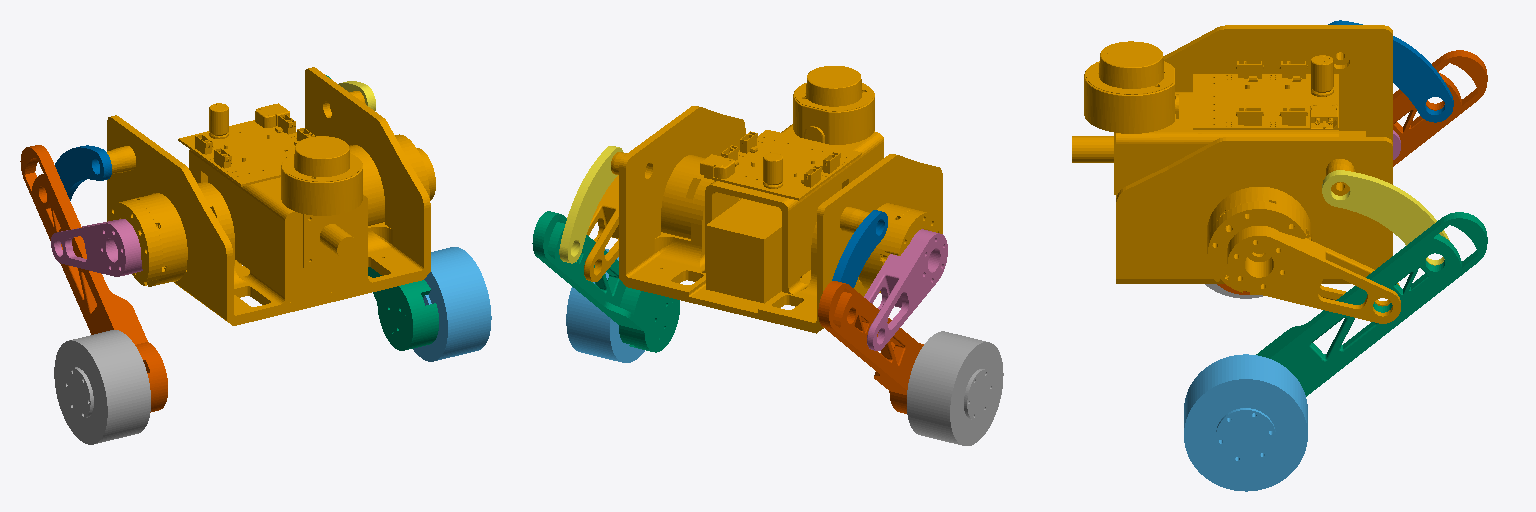
URDF robot description (robot):
<?xml version='1.0' encoding='utf-8'?>
<robot name="robot">
    <mujoco>
        <compiler fusestatic="false" discardvisual="false" coordinate="local"/>
    </mujoco>
    <link name="link1_left">
        <inertial>
            <origin xyz="-0.018166978005611494 0.009921954681198938 -0.007149621055701481" rpy="2.0293072715139053e-17 0.0 0.0" />
            <mass value="0.04" />
            <inertia ixx="7.4440028073e-06" iyy="2.5142099059e-05" izz="2.0747352118e-05" ixy="-7.2674728667e-08" iyz="-3.4979254874e-08" ixz="-6.1562281647e-06" />
        </inertial>
        <visual name="link1_left_visual">
            <origin xyz="-0.03799665238660035 0.016816099706863312 -0.019742583505363936" rpy="-1.3010609451868982 -0.004304181638839388 -1.5681871598450279" />
            <geometry>
                <mesh filename="meshes/link1_left.stl" scale="0.001 0.001 0.001" />
            </geometry>
        </visual>
        <collision name="link1_left_collision">
            <origin xyz="-0.03799665238660035 0.016816099706863312 -0.019742583505363936" rpy="-1.3010609451868982 -0.004304181638839388 -1.5681871598450279" />
            <geometry>
                <mesh filename="meshes/link1_left.stl" scale="0.001 0.001 0.001" />
            </geometry>
        </collision>
    </link>
    <link name="wheel_left">
        <inertial>
            <origin xyz="-3.5842304993884965e-05 -0.015710212283790864 6.155662402040462e-05" rpy="2.0293072715139053e-17 0.0 0.0" />
            <mass value="0.50" />
            <inertia ixx="1.8797326173e-04" iyy="2.7854652190e-04" izz="1.8797419246e-04" ixy="1.7498522962e-07" iyz="-3.1759880335e-07" ixz="-1.0851304811e-09" />
        </inertial>
        <visual name="wheel_left_visual">
            <origin xyz="-8.3490717625061e-05 -0.03199959955642795 0.0001377320956118222" rpy="-0.005646058401270238 -0.7038819930408806 0.001044882631630851" />
            <geometry>
                <mesh filename="meshes/wheel_left.stl" scale="0.001 0.001 0.001" />
            </geometry>
        </visual>
        <collision name="wheel_left_collision">
            <origin xyz="-8.3490717625061e-05 -0.03199959955642795 0.0001377320956118222" rpy="-0.005646058401270238 -0.7038819930408806 0.001044882631630851" />
            <geometry>
                <mesh filename="meshes/wheel_left.stl" scale="0.001 0.001 0.001" />
            </geometry>
        </collision>
    </link>
    <link name="link2_left">
        <inertial>
            <origin xyz="0.04156411800840451 -0.007919803008513426 -0.03523436842240086" rpy="2.0293072715139053e-17 0.0 0.0" />
            <mass value="0.08" />
            <inertia ixx="9.6715113812e-05" iyy="2.2191936723e-04" izz="1.2986640450e-04" ixy="8.5096853988e-06" iyz="-7.2667159258e-06" ixz="1.0078187861e-04" />
        </inertial>
        <visual name="link2_left_visual">
            <origin xyz="0.022013728614496388 0.0019769643873805264 -0.01870151620916417" rpy="-2.274686183703241 -0.004304181638839166 -1.5681871598450277" />
            <geometry>
                <mesh filename="meshes/link2_left.stl" scale="0.001 0.001 0.001" />
            </geometry>
        </visual>
        <collision name="link2_left_collision">
            <origin xyz="0.022013728614496388 0.0019769643873805264 -0.01870151620916417" rpy="-2.274686183703241 -0.004304181638839166 -1.5681871598450277" />
            <geometry>
                <mesh filename="meshes/link2_left.stl" scale="0.001 0.001 0.001" />
            </geometry>
        </collision>
    </link>
    <link name="link3_left">
        <inertial>
            <origin xyz="-0.028929831568332693 0.002856949438744447 -0.015707674968183517" rpy="2.0293072715139053e-17 0.0 0.0" />
            <mass value="0.01" />
            <inertia ixx="2.0683500049e-06" iyy="5.2081360291e-06" izz="3.1999954882e-06" ixy="-1.7036483869e-08" iyz="-1.4005050836e-08" ixz="-2.0547184377e-06" />
        </inertial>
        <visual name="link3_left_visual">
            <origin xyz="-0.025868010232697847 0.005847703903597115 -0.01972056132874364" rpy="2.2218156118697014 -0.00430418163883961 -1.5681871598450277" />
            <geometry>
                <mesh filename="meshes/link3_left.stl" scale="0.001 0.001 0.001" />
            </geometry>
        </visual>
        <collision name="link3_left_collision">
            <origin xyz="-0.025868010232697847 0.005847703903597115 -0.01972056132874364" rpy="2.2218156118697014 -0.00430418163883961 -1.5681871598450277" />
            <geometry>
                <mesh filename="meshes/link3_left.stl" scale="0.001 0.001 0.001" />
            </geometry>
        </collision>
    </link>
    <link name="link3_right">
        <inertial>
            <origin xyz="-0.028914178443092808 0.003142983198542506 0.01568184630847984" rpy="2.0293072715139053e-17 0.0 0.0" />
            <mass value="0.01" />
            <inertia ixx="2.0683500049e-06" iyy="5.2081360291e-06" izz="3.1999954882e-06" ixy="1.7036483869e-08" iyz="-1.4005050836e-08" ixz="2.0547184377e-06" />
        </inertial>
        <visual name="link3_right_visual">
            <origin xyz="-0.02583670226853351 0.006152152732781158 0.019668907658946147" rpy="-2.221815611869705 -0.004304181638839166 -1.5734054937447661" />
            <geometry>
                <mesh filename="meshes/link3_right.stl" scale="0.001 0.001 0.001" />
            </geometry>
        </visual>
        <collision name="link3_right_collision">
            <origin xyz="-0.02583670226853351 0.006152152732781158 0.019668907658946147" rpy="-2.221815611869705 -0.004304181638839166 -1.5734054937447661" />
            <geometry>
                <mesh filename="meshes/link3_right.stl" scale="0.001 0.001 0.001" />
            </geometry>
        </collision>
    </link>
    <link name="link2_right">
        <inertial>
            <origin xyz="0.04156411800840451 0.007919803008513426 -0.03523436842240086" rpy="2.0293072715139053e-17 0.0 0.0" />
            <mass value="0.08" />
            <inertia ixx="9.6715113812e-05" iyy="2.2191936723e-04" izz="1.2986640450e-04" ixy="-8.5096853988e-06" iyz="7.2667159258e-06" ixz="1.0078187861e-04" />
        </inertial>
        <visual name="link2_right_visual">
            <origin xyz="0.022024157654718515 -0.0020229835789991489 -0.018684300835689172" rpy="-0.8669064698865504 0.0043041816388385001 1.5734054937447655" />
            <geometry>
                <mesh filename="meshes/link2_right.stl" scale="0.001 0.001 0.001" />
            </geometry>
        </visual>
        <collision name="link2_right_collision">
            <origin xyz="0.022024157654718515 -0.0020229835789991489 -0.018684300835689172" rpy="-0.8669064698865504 0.0043041816388385001 1.5734054937447655" />
            <geometry>
                <mesh filename="meshes/link2_right.stl" scale="0.001 0.001 0.001" />
            </geometry>
        </collision>
    </link>
    <link name="link1_right">
        <inertial>
            <origin xyz="-0.018114786914125727 -0.010077793976110775 -0.007063534024669487" rpy="2.0293072715139053e-17 0.0 0.0" />
            <mass value="0.04" />
            <inertia ixx="7.4440028212e-06" iyy="2.5142099031e-05" izz="2.0747352133e-05" ixy="-7.2677387689e-08" iyz="-3.4980940982e-08" ixz="-6.1562281488e-06" />
        </inertial>
        <visual name="link1_right_visual">
            <origin xyz="-0.0379079333463781 -0.017183468259516187 -0.01959623813188882" rpy="-1.840531708402895 0.00430418163883961 1.573405493744765" />
            <geometry>
                <mesh filename="meshes/link1_right.stl" scale="0.001 0.001 0.001" />
            </geometry>
        </visual>
        <collision name="link1_right_collision">
            <origin xyz="-0.0379079333463781 -0.017183468259516187 -0.01959623813188882" rpy="-1.840531708402895 0.00430418163883961 1.573405493744765" />
            <geometry>
                <mesh filename="meshes/link1_right.stl" scale="0.001 0.001 0.001" />
            </geometry>
        </collision>
    </link>
    <link name="wheel_right">
        <inertial>
            <origin xyz="4.482355501615132e-05 0.015710191616803027 -6.0650294060256014e-05" rpy="2.0293072715139053e-17 0.0 0.0" />
            <mass value="0.50" />
            <inertia ixx="1.8797362261e-04" iyy="2.7854605683e-04" izz="1.8797429666e-04" ixy="2.8195219634e-07" iyz="-3.0678296348e-07" ixz="-5.5169133440e-10" />
        </inertial>
        <visual name="wheel_right_visual">
            <origin xyz="8.34967118459673e-05 0.031999598400864734 -0.00013773337880224724" rpy="0.004910832616104921 -0.5023207052999299 3.136619098362705" />
            <geometry>
                <mesh filename="meshes/wheel_right.stl" scale="0.001 0.001 0.001" />
            </geometry>
        </visual>
        <collision name="wheel_right_collision">
            <origin xyz="8.34967118459673e-05 0.031999598400864734 -0.00013773337880224724" rpy="0.004910832616104921 -0.5023207052999299 3.136619098362705" />
            <geometry>
                <mesh filename="meshes/wheel_right.stl" scale="0.001 0.001 0.001" />
            </geometry>
        </collision>
    </link>
    <link name="base_link">
        <inertial>
            <origin xyz="-0.0005926311409948765 0.000247 0.005442047538105136" rpy="1.5707963267948966 0.0 0.0" />
            <mass value="0.94" />
            <inertia ixx="1.8172826705e-03" iyy="2.8551766520e-03" izz="3.7139004379e-03" ixy="-3.0434151667e-06" iyz="6.0323715329e-05" ixz="4.5944441791e-06" />
        </inertial>
        <visual name="base_link_visual">
            <origin xyz="0.0 0.0 0.0" rpy="1.5707963267948966 0.0 0.0" />
            <geometry>
                <mesh filename="meshes/base_link.stl" scale="0.001 0.001 0.001" />
            </geometry>
        </visual>
        <collision name="base_link_collision">
            <origin xyz="0.0 0.0 0.0" rpy="1.5707963267948966 0.0 0.0" />
            <geometry>
                <mesh filename="meshes/base_link.stl" scale="0.001 0.001 0.001" />
            </geometry>
        </collision>
    </link>
    <joint name="base_link_旋转-1" type="revolute">
        <origin xyz="-0.09400000200669573 0.011523592215170648 0.005415741165141359" rpy="0.004283460434355124 0.00794719707671776 -1.5734055519724581" />
        <parent link="base_link" />
        <child link="link1_right" />
        <axis xyz="0.002609 -0.9999869999999998 0.004304000000000125" />
        <limit lower="-0.110000" upper="0.600000" effort="1000000" velocity="1000000" />
    </joint>
    <joint name="base_link_旋转-2" type="revolute">
        <origin xyz="0.09399999931776205 0.011523583896583905 0.005415744754583152" rpy="0.004283460434354236 0.007947197076717538 -1.5734055519724581" />
        <parent link="base_link" />
        <child link="link1_left" />
        <axis xyz="0.002609 -0.9999869999999998 0.004304000000000125" />
        <limit lower="-0.110000" upper="0.600000" effort="1000000" velocity="1000000" />
    </joint>
    <joint name="base_link_旋转-3" type="continuous">
        <origin xyz="-0.09399999505395025 0.05594521558289801 0.04326729650344552" rpy="-3.1373091931554526 0.007947197076717316 -1.573405551972459" />
        <parent link="base_link" />
        <child link="link3_right" />
        <axis xyz="0.002609 0.9999869999999998 -0.004304000000000139" />
    </joint>
    <joint name="base_link_旋转-4" type="continuous">
        <origin xyz="0.09399999629672562 0.05594521729039382 0.04326730012952533" rpy="0.004283460434348907 0.00794719707671776 -1.5734055519724581" />
        <parent link="base_link" />
        <child link="link3_left" />
        <axis xyz="0.002609 -0.9999869999999998 0.004303999999999985" />
    </joint>
    <joint name="link1_right_旋转-5" type="continuous">
        <origin xyz="-0.06746535000000002 -0.015289760000000001 -0.026379890000000027" rpy="0 0 0" />
        <parent link="link1_right" />
        <child link="link2_right" />
        <axis xyz="-0.002609 0.999987 -0.004304" />
    </joint>
    <joint name="link1_left_旋转-6" type="continuous">
        <origin xyz="-0.06754364000000002 0.01470986 -0.026509020000000022" rpy="2.0293072715139053e-17 0.0 0.0" />
        <parent link="link1_left" />
        <child link="link2_left" />
        <axis xyz="-0.002609 0.999987 -0.004304" />
    </joint>
    <joint name="link2_right_旋转-12" type="continuous">
        <origin xyz="0.075598929999999995 -7.8990000000001004e-05 -0.064179469999999988" rpy="-3.1415926535897931 -0 0" />
        <parent link="link2_right" />
        <child link="wheel_right" />
        <axis xyz="-0.0026089999999999447 -0.999987 0.004304" />
    </joint>
    <joint name="link2_left_旋转-13" type="continuous">
        <origin xyz="0.07559894 -7.899999999999352e-05 -0.06417947" rpy="-3.1415926535897927 0.0 0.0" />
        <parent link="link2_left" />
        <child link="wheel_left" />
        <axis xyz="-0.0026090000000001112 -0.999987 0.004304" />
    </joint>
</robot>

--- What the picture shows (computed from the rendered views, not written in the file) ---
The picture shows the robot from 3 angles, left to right: view 1: azimuth 30°, elevation 25°; view 2: azimuth 150°, elevation 25°; view 3: azimuth 270°, elevation 25°; orthographic projection.
Robot: robot — 9 links, 8 joints (2 revolute, 6 continuous); root link base_link; default pose: every joint at zero.
Visible links, largest first — view 1: base_link, wheel_right, link2_right, wheel_left, link1_right, link2_left, link3_right; view 2: base_link, wheel_right, link2_left, link2_right, link1_right, wheel_left, link3_left, link1_left, link3_right; view 3: base_link, wheel_left, link2_left, link1_left, link3_left, link2_right, link3_right.
Link boxes in pixels (x1=…): base_link: x1=107, y1=67, x2=430, y2=325; wheel_right: x1=54, y1=330, x2=150, y2=444; link2_right: x1=20, y1=145, x2=167, y2=412; wheel_left: x1=413, y1=247, x2=491, y2=361; link1_right: x1=51, y1=219, x2=142, y2=276; link2_left: x1=326, y1=75, x2=438, y2=350; link3_right: x1=55, y1=145, x2=111, y2=200; base_link: x1=611, y1=66, x2=942, y2=333; wheel_right: x1=907, y1=331, x2=1003, y2=445; link2_left: x1=532, y1=211, x2=679, y2=352; link2_right: x1=818, y1=281, x2=923, y2=413; link1_right: x1=864, y1=229, x2=947, y2=350; wheel_left: x1=566, y1=249, x2=644, y2=362; link3_left: x1=559, y1=146, x2=623, y2=263; link1_left: x1=584, y1=175, x2=618, y2=281; link3_right: x1=832, y1=210, x2=887, y2=287; base_link: x1=1072, y1=25, x2=1392, y2=294; wheel_left: x1=1184, y1=354, x2=1307, y2=491; link2_left: x1=1256, y1=212, x2=1487, y2=396; link1_left: x1=1227, y1=226, x2=1400, y2=323; link3_left: x1=1322, y1=170, x2=1449, y2=265; link2_right: x1=1217, y1=50, x2=1487, y2=294; link3_right: x1=1328, y1=20, x2=1453, y2=122.
Size in the robot's own frame: 0.287 by 0.2275 by 0.1986 metres.
9 mesh visuals loaded from 9 distinct referenced files (9 binary STL).
